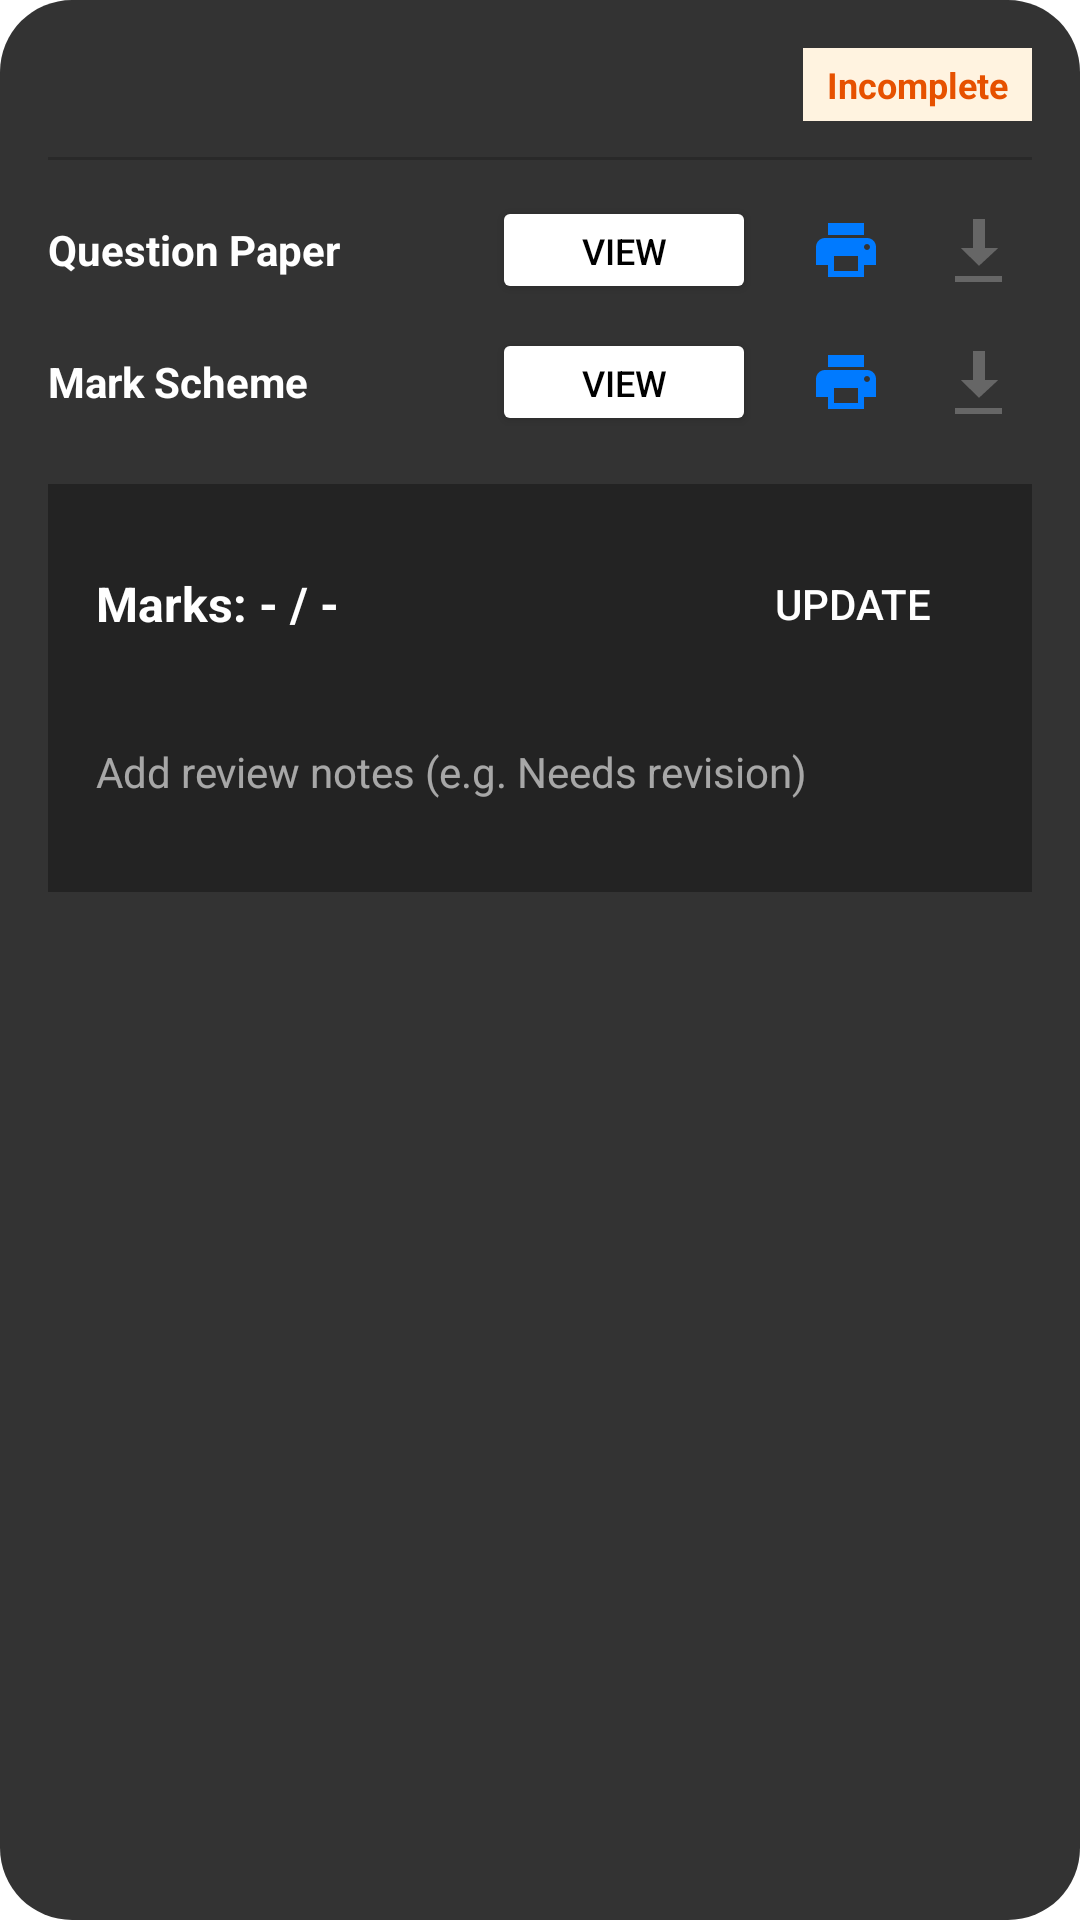

Where icons sit on this 1080 x 1920 app screen, as (x1, y1, x2, y2):
Download MS: (955, 351, 1002, 414)
Download QP: (955, 219, 1002, 282)
Print MS: (816, 355, 876, 409)
Print QP: (816, 223, 876, 277)
